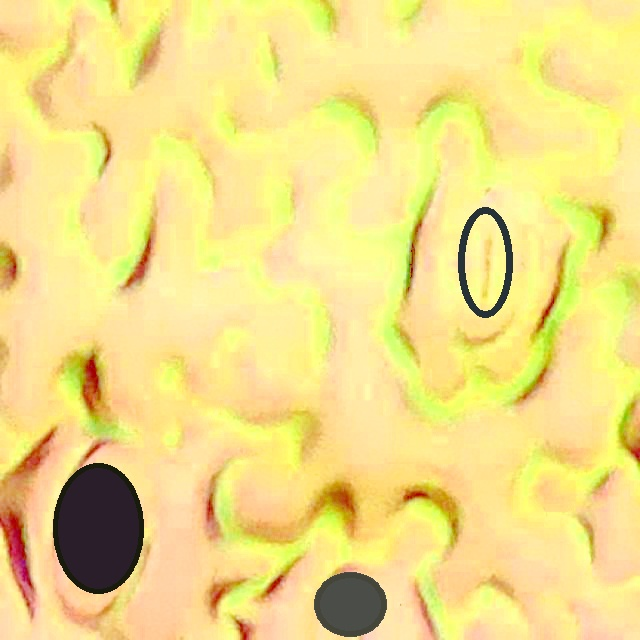close: (53, 463, 143, 593), (457, 205, 513, 318), (315, 573, 386, 636)
